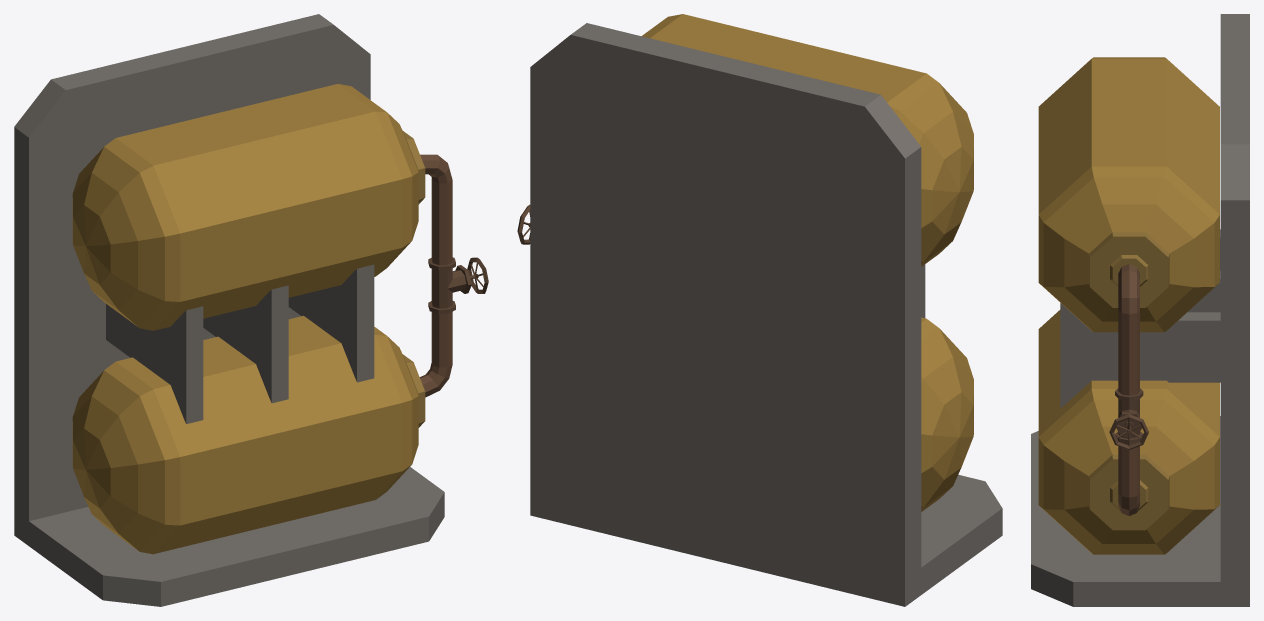
Rendered from SM_Props_Industrial_GasTank_03.fbx.
The picture shows the model from 3 angles, left to right: view 1: azimuth 30°, elevation 25°; view 2: azimuth 150°, elevation 25°; view 3: azimuth 270°, elevation 25°; orthographic projection. The views are drawn at different scales.
Visible parts, largest first — view 1: SM_Props_Industrial_GasTank_03; view 2: SM_Props_Industrial_GasTank_03; view 3: SM_Props_Industrial_GasTank_03.
Boxes of the visible parts, x1=… form: SM_Props_Industrial_GasTank_03: x1=14, y1=14, x2=488, y2=606; SM_Props_Industrial_GasTank_03: x1=517, y1=14, x2=1002, y2=606; SM_Props_Industrial_GasTank_03: x1=1031, y1=14, x2=1249, y2=606.
Size of the model in its own units: 379 by 400 by 178.
